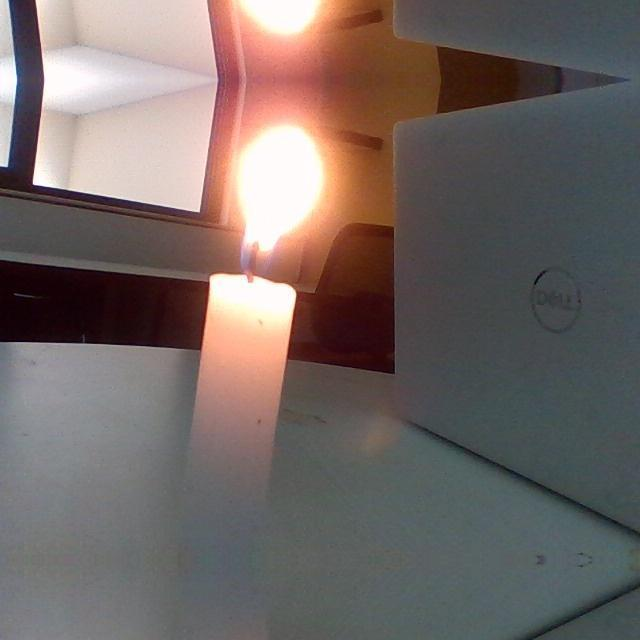smoke: (237, 124, 323, 278), (237, 0, 323, 36)
